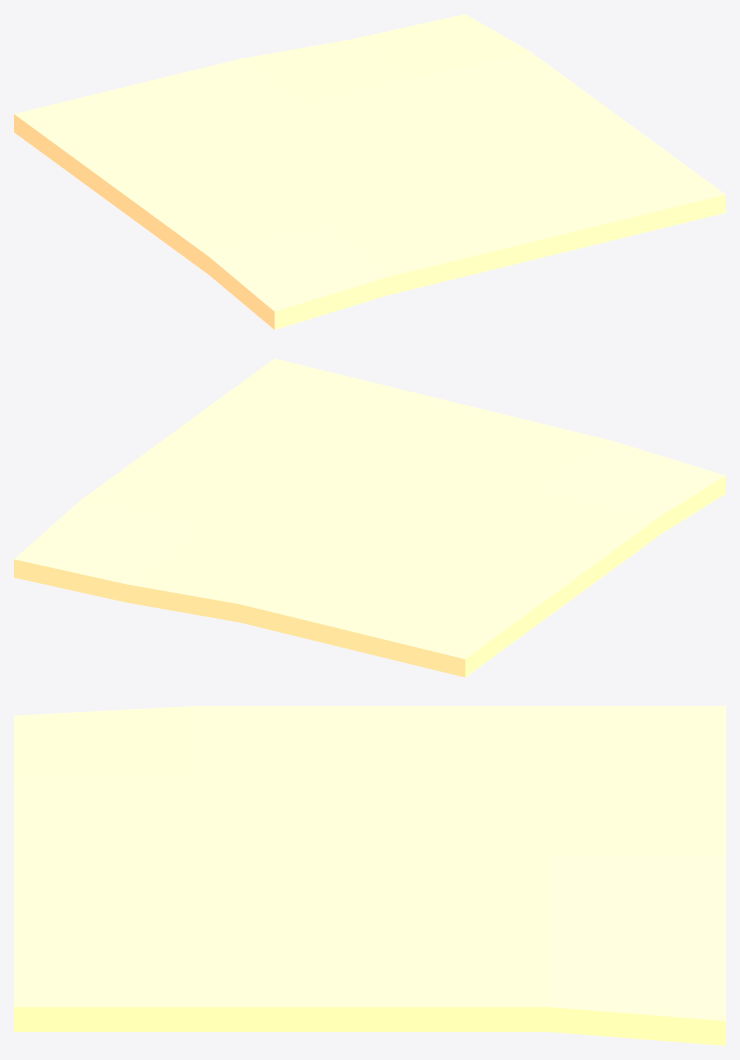
Rendered from cheddar.fbx.
3 renders of one model, top to bottom at view 1: azimuth 30°, elevation 25°; view 2: azimuth 150°, elevation 25°; view 3: azimuth 270°, elevation 25°, orthographic. The views are drawn at different scales.
Parts seen in each view (by area): view 1: Cheese; view 2: Cheese; view 3: Cheese.
Part boxes in pixels (left/top/right/bottom): Cheese: left=14, top=14, right=725, bottom=329; Cheese: left=14, top=358, right=725, bottom=677; Cheese: left=14, top=706, right=725, bottom=1045.
Bounding box in the file's own units: 200 × 12.03 × 200.
